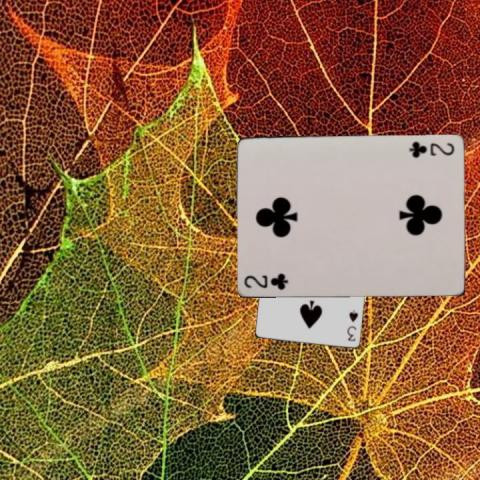2c: (407, 138, 456, 159), (241, 271, 290, 292)
3s: (344, 307, 359, 343)
